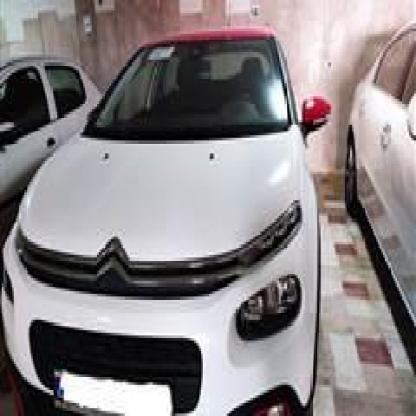Car: (14, 18, 329, 416), (331, 24, 416, 366), (0, 55, 111, 221)
